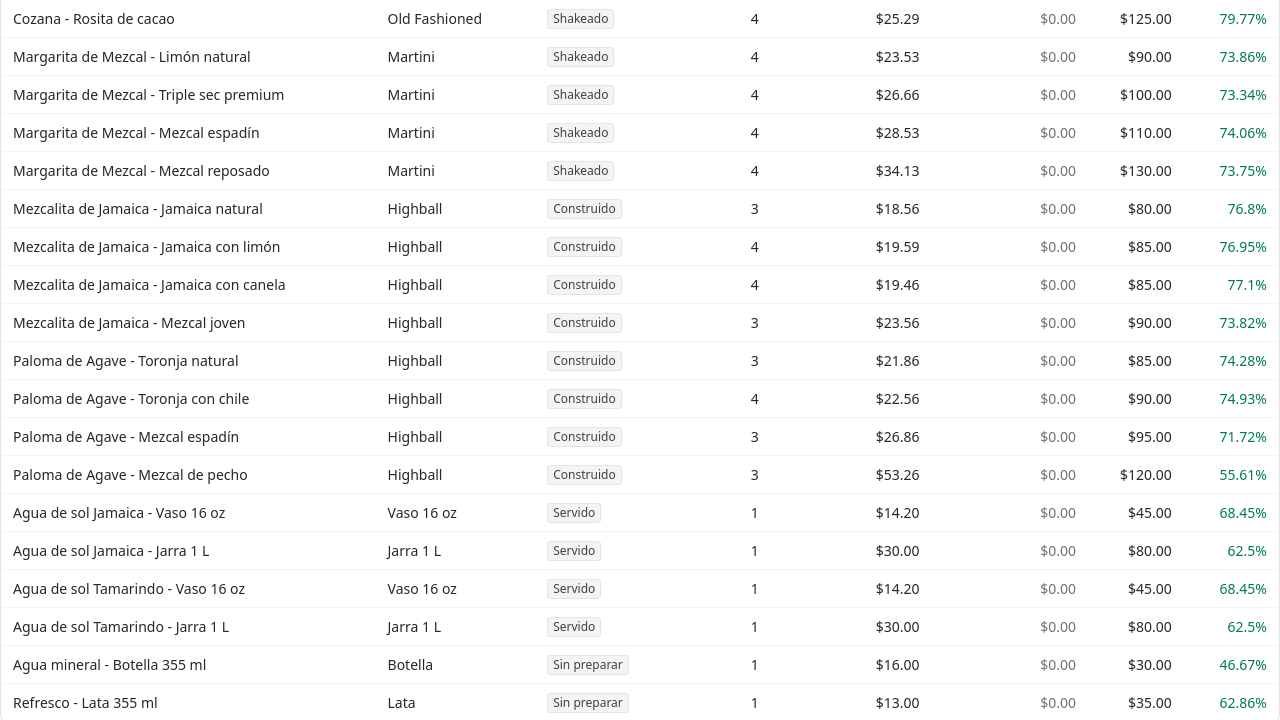
Test: <RecetasPage> › quitar un ingrediente baja el costo calculado del cóctel
(page scrolled)
What coordinates should you click on to do the following:
click the cell "Paloma de Agave - Toronja natural"
I would click on:
 (188, 360)
Its box is [1, 342, 376, 380].
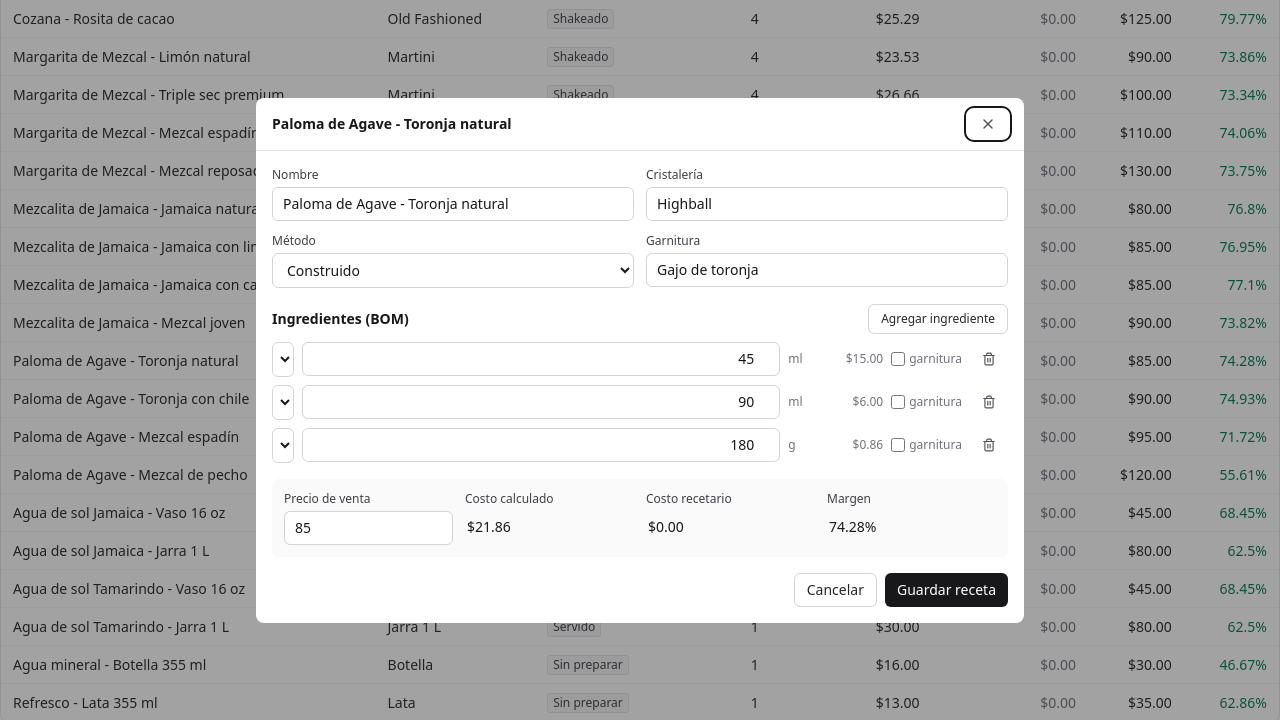
What coordinates should you click on to do the following:
click the button named "Quitar ingrediente" in the row of "$15.00"
I would click on:
 (989, 359)
Its box is [970, 346, 1008, 372].
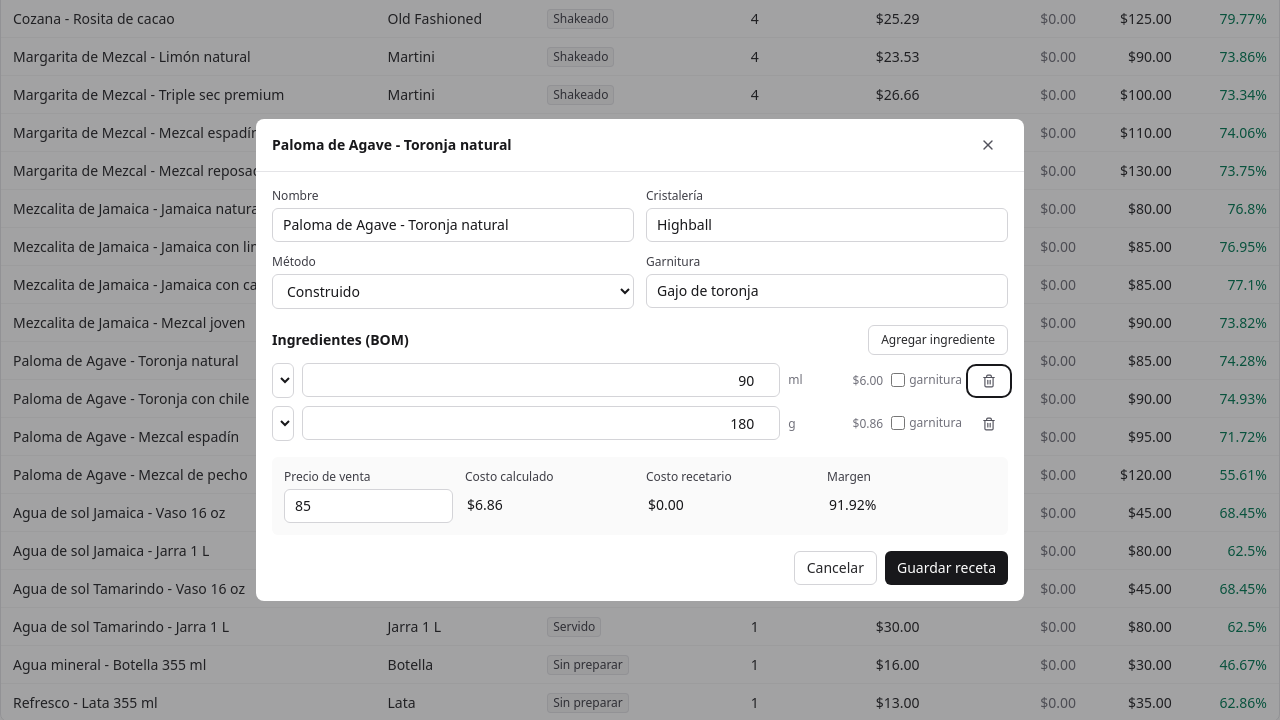
Expected: the number of dropdowns named "Insumo" is 2, [272, 363, 294, 398]; [272, 406, 294, 441]
